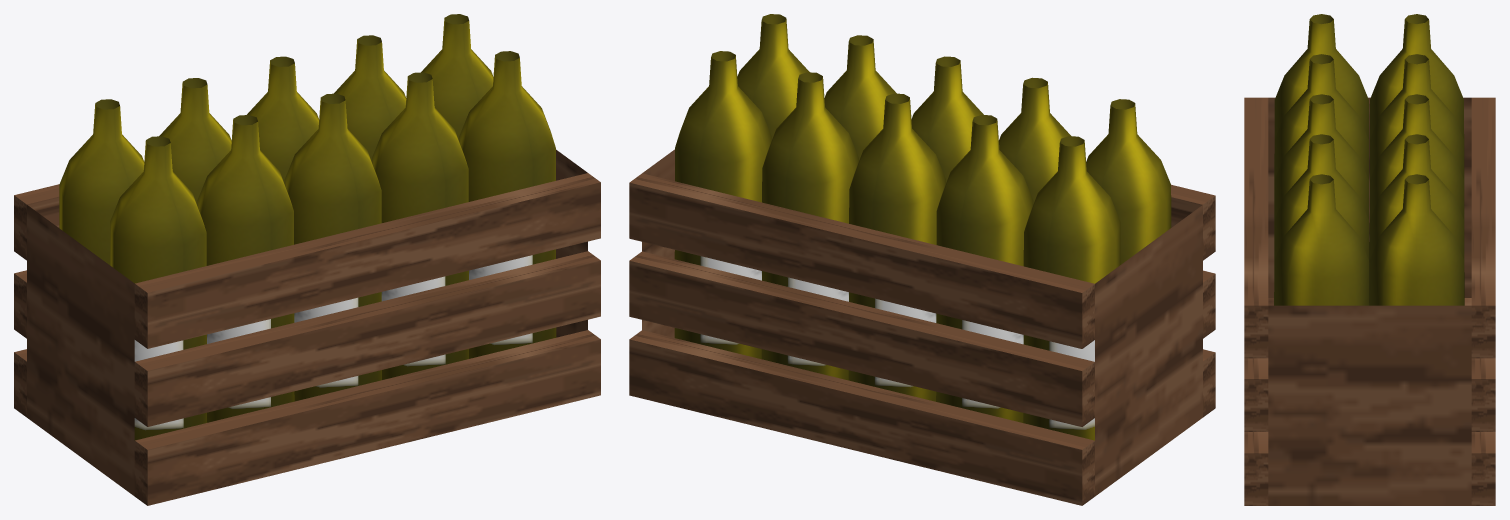
The model's file is wooden_box_of_empty_wine_bottles.fbx.
The picture shows the model from 3 angles, left to right: view 1: azimuth 30°, elevation 25°; view 2: azimuth 150°, elevation 25°; view 3: azimuth 270°, elevation 25°; orthographic projection. The views are drawn at different scales.
Visible parts, largest first — view 1: WineWoodBoxEmpty; view 2: WineWoodBoxEmpty; view 3: WineWoodBoxEmpty.
Boxes of the visible parts, x1,y1,x2,y2 form: WineWoodBoxEmpty: (14, 14, 600, 505); WineWoodBoxEmpty: (629, 14, 1215, 505); WineWoodBoxEmpty: (1244, 14, 1495, 505).
Size of the model in its own units: 0.4565 by 0.3096 by 0.2328.
